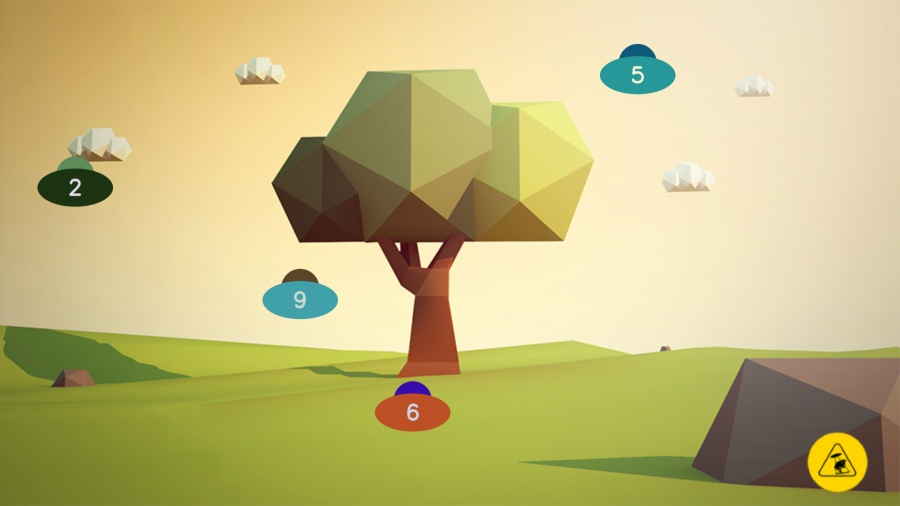ufo: (36, 156, 114, 208), (599, 43, 677, 95), (374, 380, 451, 432), (262, 268, 339, 320)
